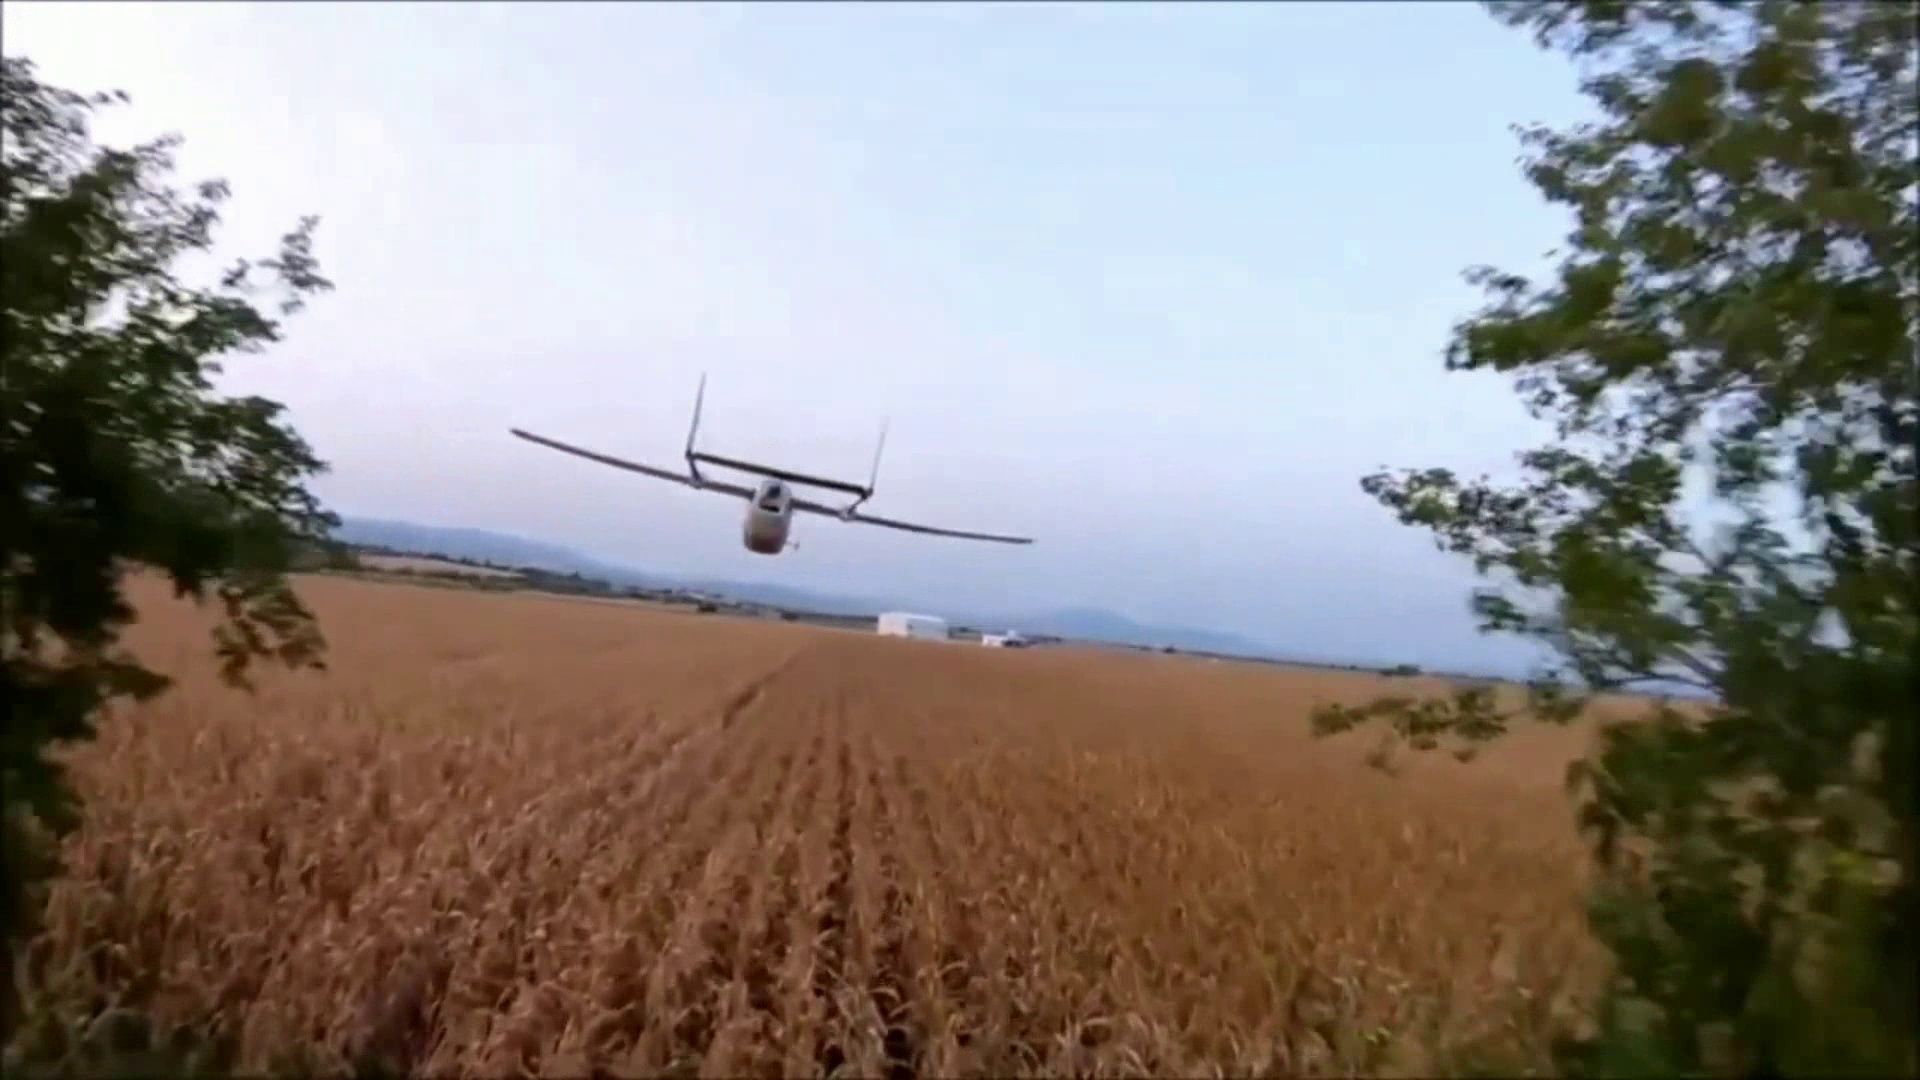airplane: (313, 375, 1038, 615)
